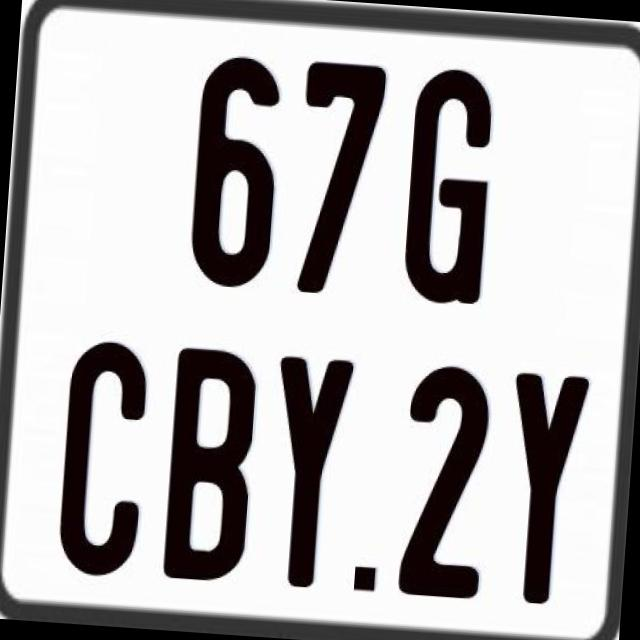2: (397, 362, 501, 604)
6: (184, 50, 280, 286)
7: (290, 58, 386, 296)
B: (158, 347, 260, 584)
C: (52, 340, 152, 580)
G: (398, 65, 496, 310)
Y: (497, 368, 592, 606), (262, 355, 354, 594)
